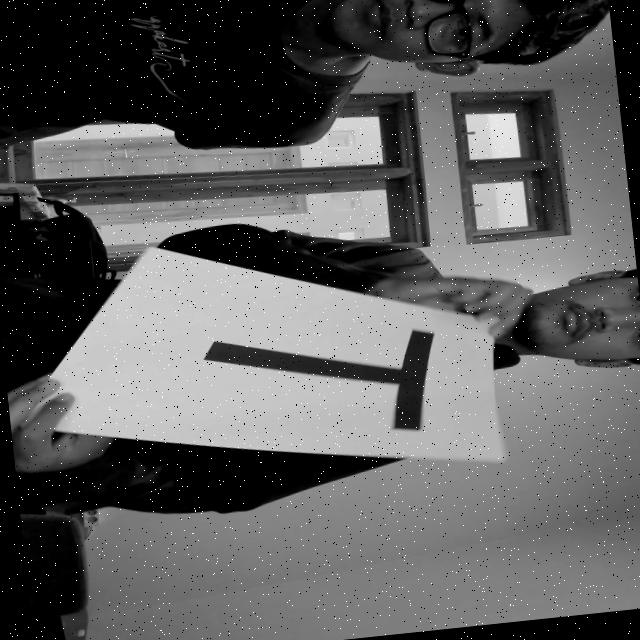t: (168, 294, 450, 470)
